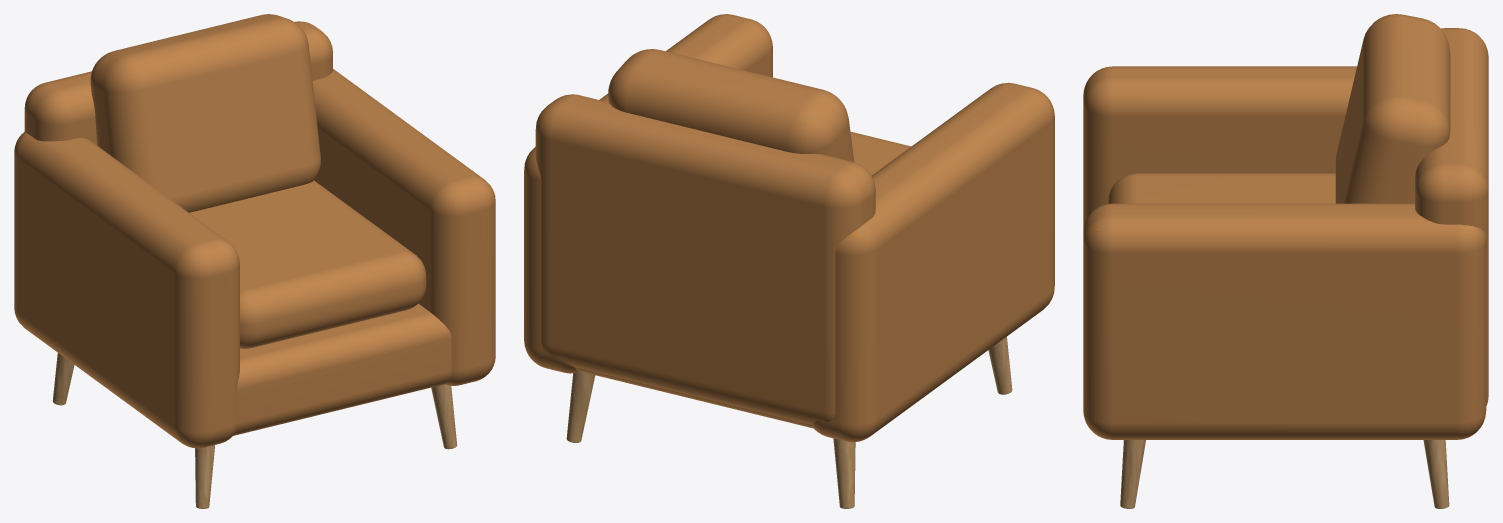
The model's file is armchair.glb.
3 views of the same model, side by side, from view 1: azimuth 30°, elevation 25°; view 2: azimuth 150°, elevation 25°; view 3: azimuth 270°, elevation 25° (orthographic). The views are drawn at different scales.
Visible parts, largest first — view 1: Cube; view 2: Cube; view 3: Cube.
Part boxes in pixels (bbox=[...]): Cube: bbox=[14, 14, 495, 508]; Cube: bbox=[524, 14, 1054, 508]; Cube: bbox=[1083, 14, 1488, 508].
Bounding box in the file's own units: 0.82 × 0.8633 × 0.825.
Materials: 1 (1 with a texture image).
